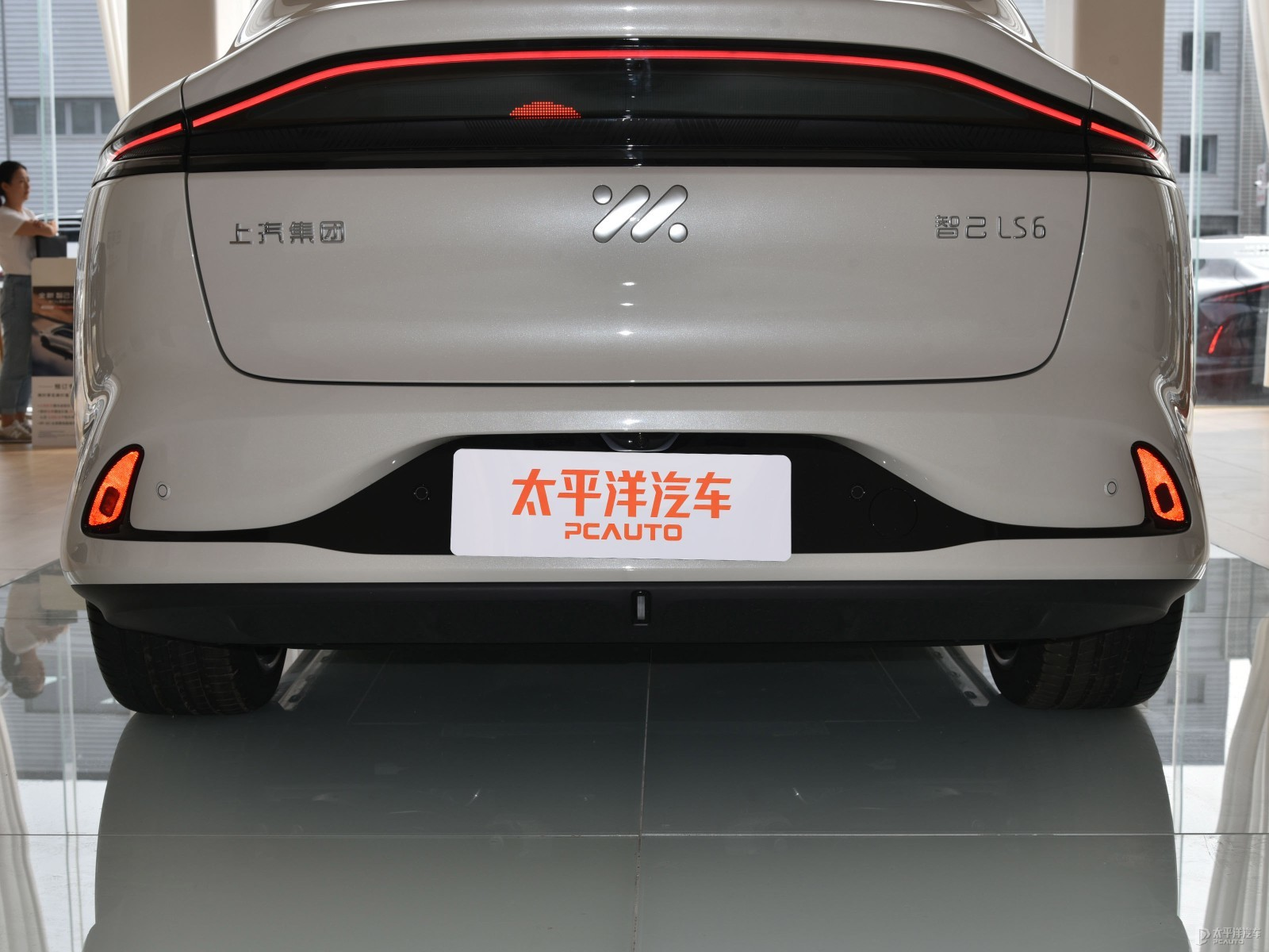IM: (593, 186, 688, 244)
